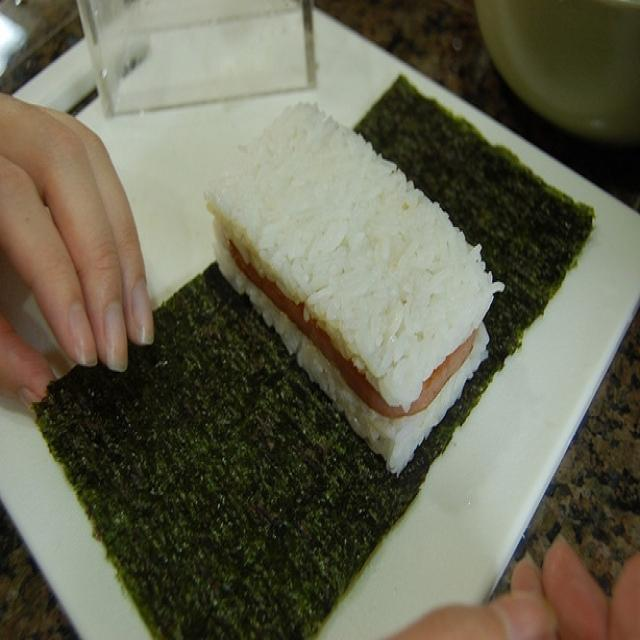寿司卷物: (7, 1, 634, 634)
